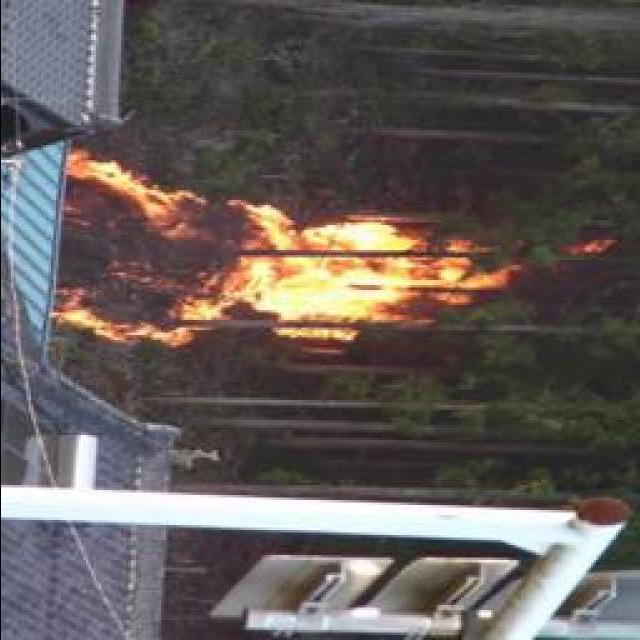Fire: (58, 150, 504, 348)
